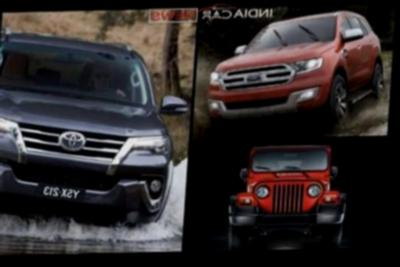License_Plate: (36, 185, 83, 203)
